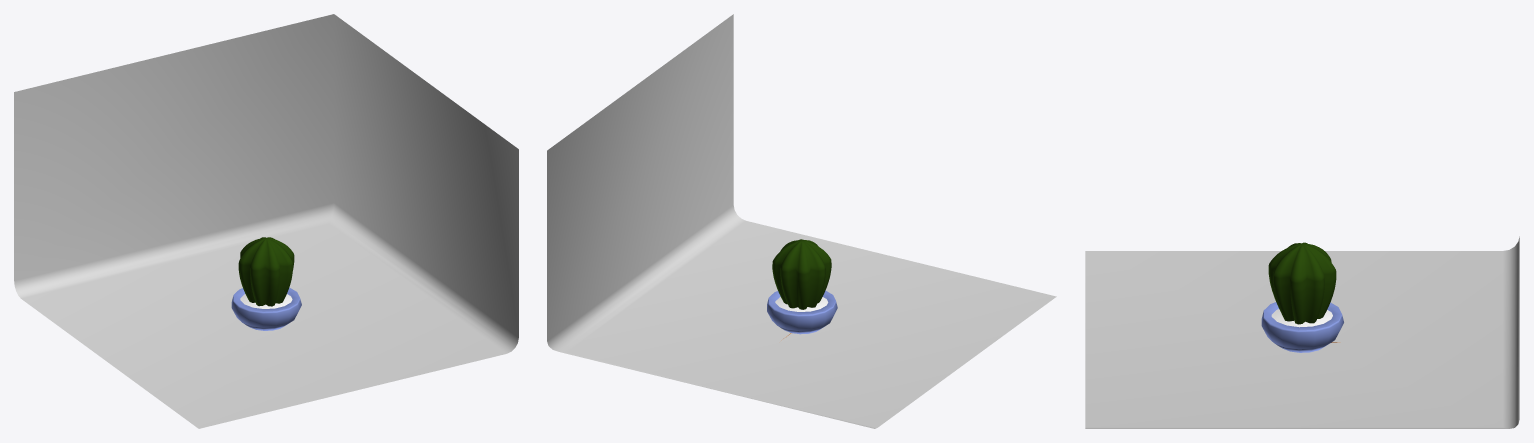
File: Cactus3.gltf
3 renders of one model, left to right at view 1: azimuth 30°, elevation 25°; view 2: azimuth 150°, elevation 25°; view 3: azimuth 270°, elevation 25°, orthographic. The views are drawn at different scales.
Parts seen in each view (by area): view 1: Плоскость, Цилиндр.001, Цилиндр; view 2: Плоскость, Цилиндр.001, Цилиндр; view 3: Плоскость, Цилиндр.001, Цилиндр.
Part boxes in pixels (x1,y1,x2,y2): Плоскость: (14,14,518,428); Цилиндр.001: (238,237,294,306); Цилиндр: (231,287,301,330); Плоскость: (547,14,1056,428); Цилиндр.001: (772,239,831,309); Цилиндр: (767,290,837,334); Плоскость: (1085,236,1519,428); Цилиндр.001: (1268,242,1336,324); Цилиндр: (1261,302,1343,352).
Size of the model in its own units: 12.6 by 7.62 by 12.6.
